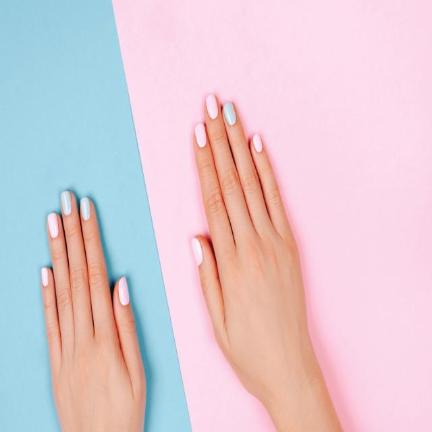Nail: (190, 238, 203, 265), (118, 276, 129, 305), (206, 93, 218, 119), (224, 101, 237, 125), (48, 212, 59, 238), (61, 191, 72, 216), (195, 124, 206, 148), (80, 197, 91, 220), (253, 134, 262, 152), (42, 268, 48, 287)
